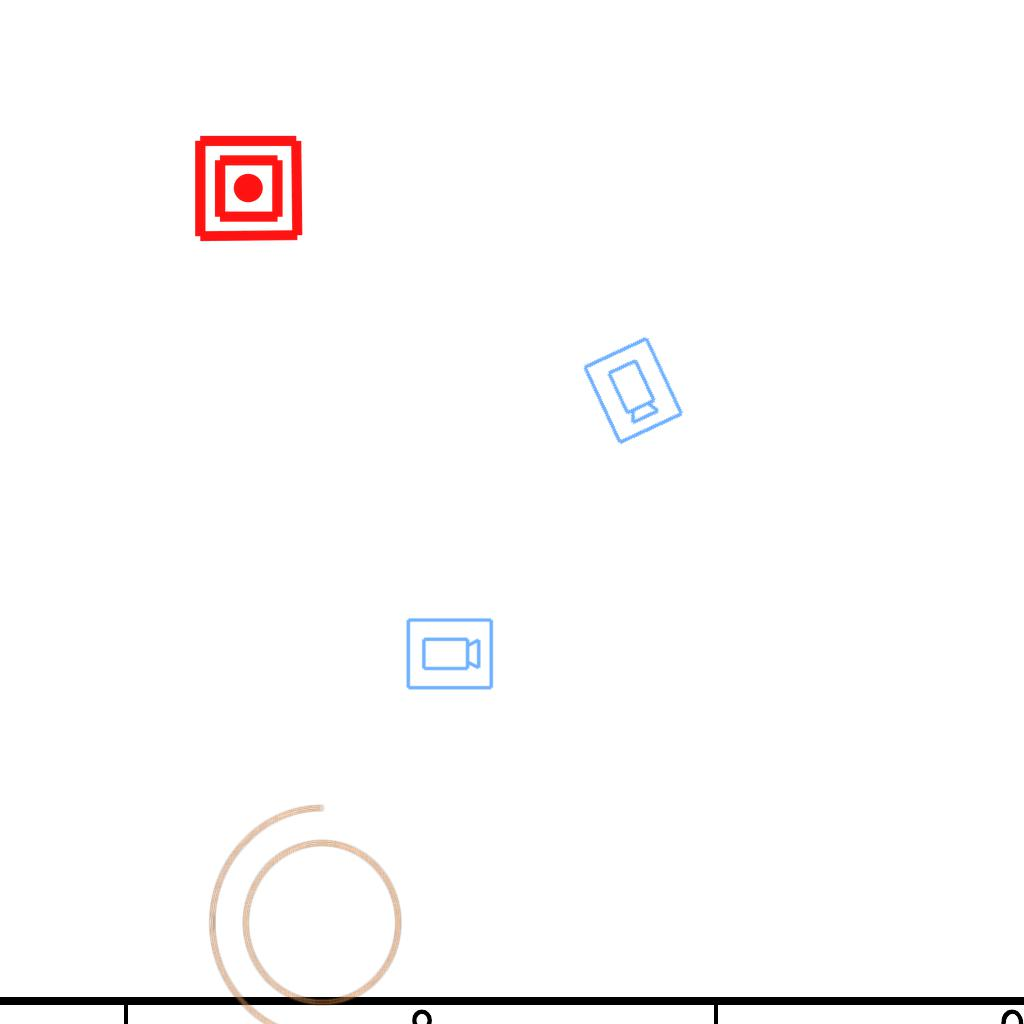KFO_Kamera_mit_Festobjektiv: (578, 332, 687, 449), (404, 616, 495, 693)
NAM-Nichtautomatischer_Melder: (192, 132, 305, 245)
Scheinwerfer_fuer_Alarmbeleuchtung: (200, 797, 425, 1024)
